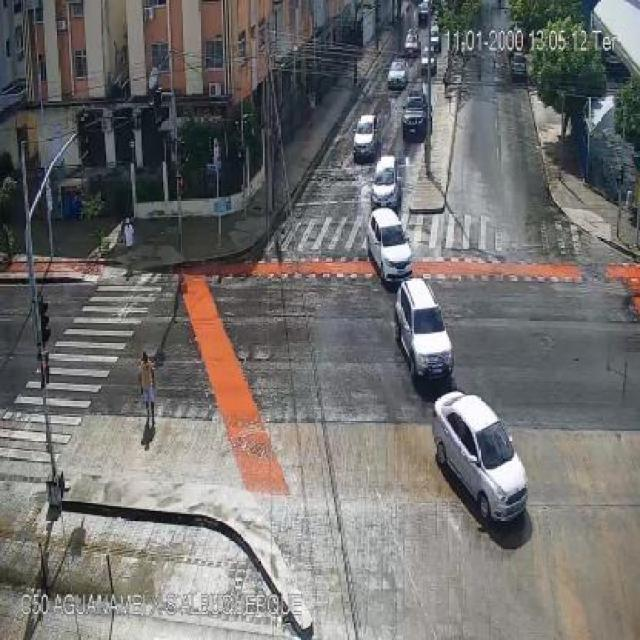Car: (428, 394, 534, 522), (394, 278, 454, 381), (368, 208, 414, 286), (371, 158, 402, 208), (401, 94, 428, 138), (353, 114, 378, 158), (387, 60, 407, 90), (510, 52, 528, 80), (404, 30, 420, 56), (420, 53, 437, 77), (429, 25, 440, 53), (418, 1, 430, 26), (432, 12, 439, 29)
